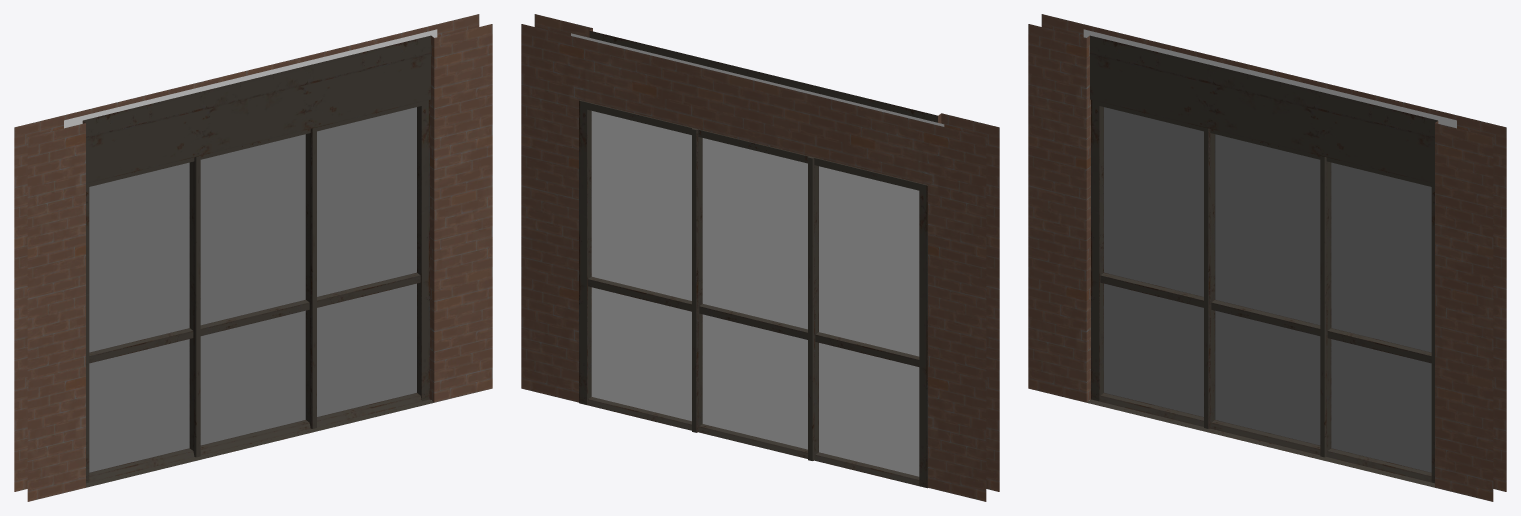
The model's file is Metal_Window.glb.
The picture shows the model from 3 angles, left to right: view 1: azimuth 30°, elevation 25°; view 2: azimuth 150°, elevation 25°; view 3: azimuth 330°, elevation 25°; orthographic projection.
Visible parts, largest first — view 1: Metal_Window; view 2: Metal_Window; view 3: Metal_Window.
Part boxes in pixels (<box>): Metal_Window: <box>14,14,492,501</box>; Metal_Window: <box>521,14,999,501</box>; Metal_Window: <box>1028,14,1506,501</box>.
Size of the model in its own units: 4 by 3 by 0.2236.
4 materials, 2 textured.
